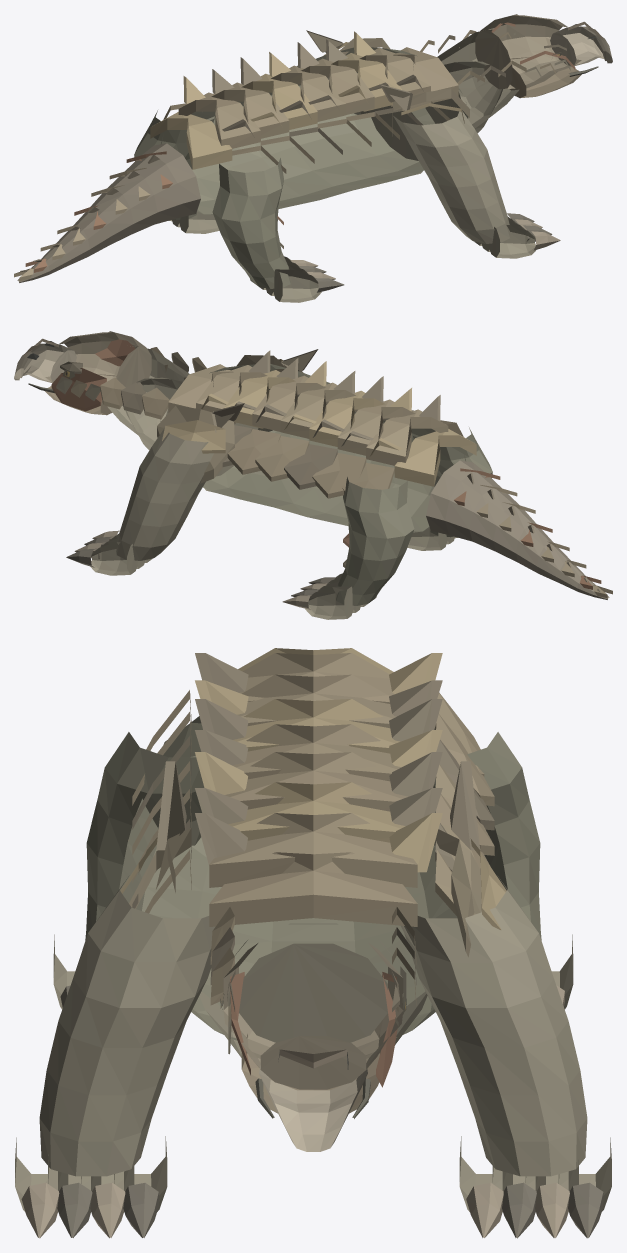
Rendered from raizauro-v03-anatomy-blockout.glb.
3 views of the same model, one above another, from view 1: azimuth 30°, elevation 25°; view 2: azimuth 150°, elevation 25°; view 3: azimuth 270°, elevation 25° (orthographic). The views are drawn at different scales.
Visible parts, largest first — view 1: Raizauro_Faceted_Anatomy_v03; view 2: Raizauro_Faceted_Anatomy_v03; view 3: Raizauro_Faceted_Anatomy_v03.
Part boxes in pixels (<box>): Raizauro_Faceted_Anatomy_v03: <box>14,14,612,302</box>; Raizauro_Faceted_Anatomy_v03: <box>14,331,612,619</box>; Raizauro_Faceted_Anatomy_v03: <box>15,648,611,1238</box>.
Size of the model in its own units: 8.51 by 2.39 by 3.72.
